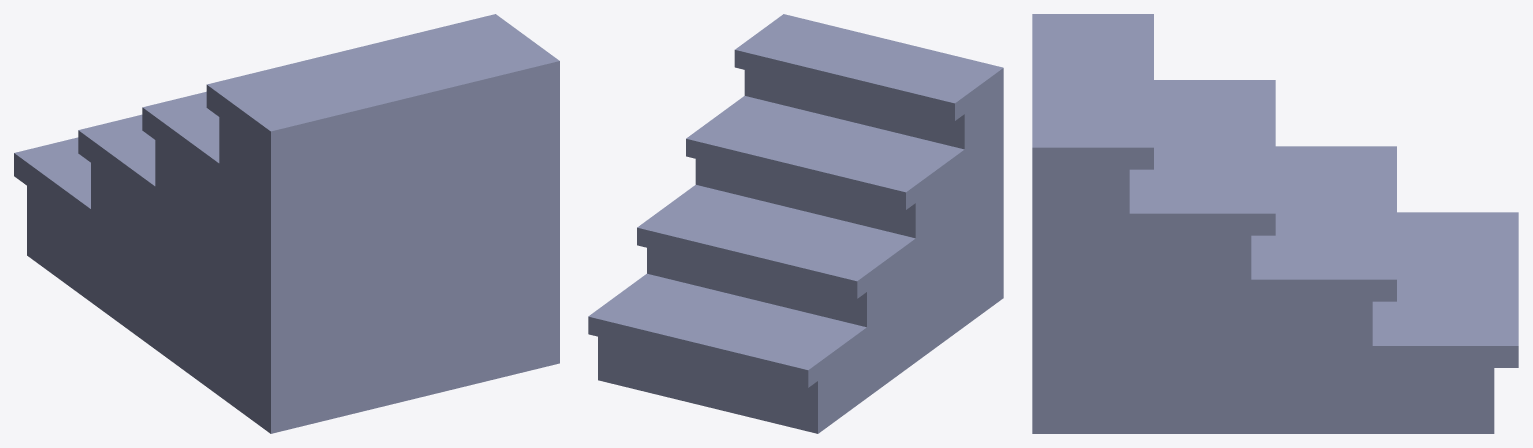
The model's file is stairs-closed-short.obj.
3 renders of one model, left to right at view 1: azimuth 30°, elevation 25°; view 2: azimuth 150°, elevation 25°; view 3: azimuth 270°, elevation 25°, orthographic. The views are drawn at different scales.
Bounding box in the file's own units: 1.3 × 1.3 × 2.
